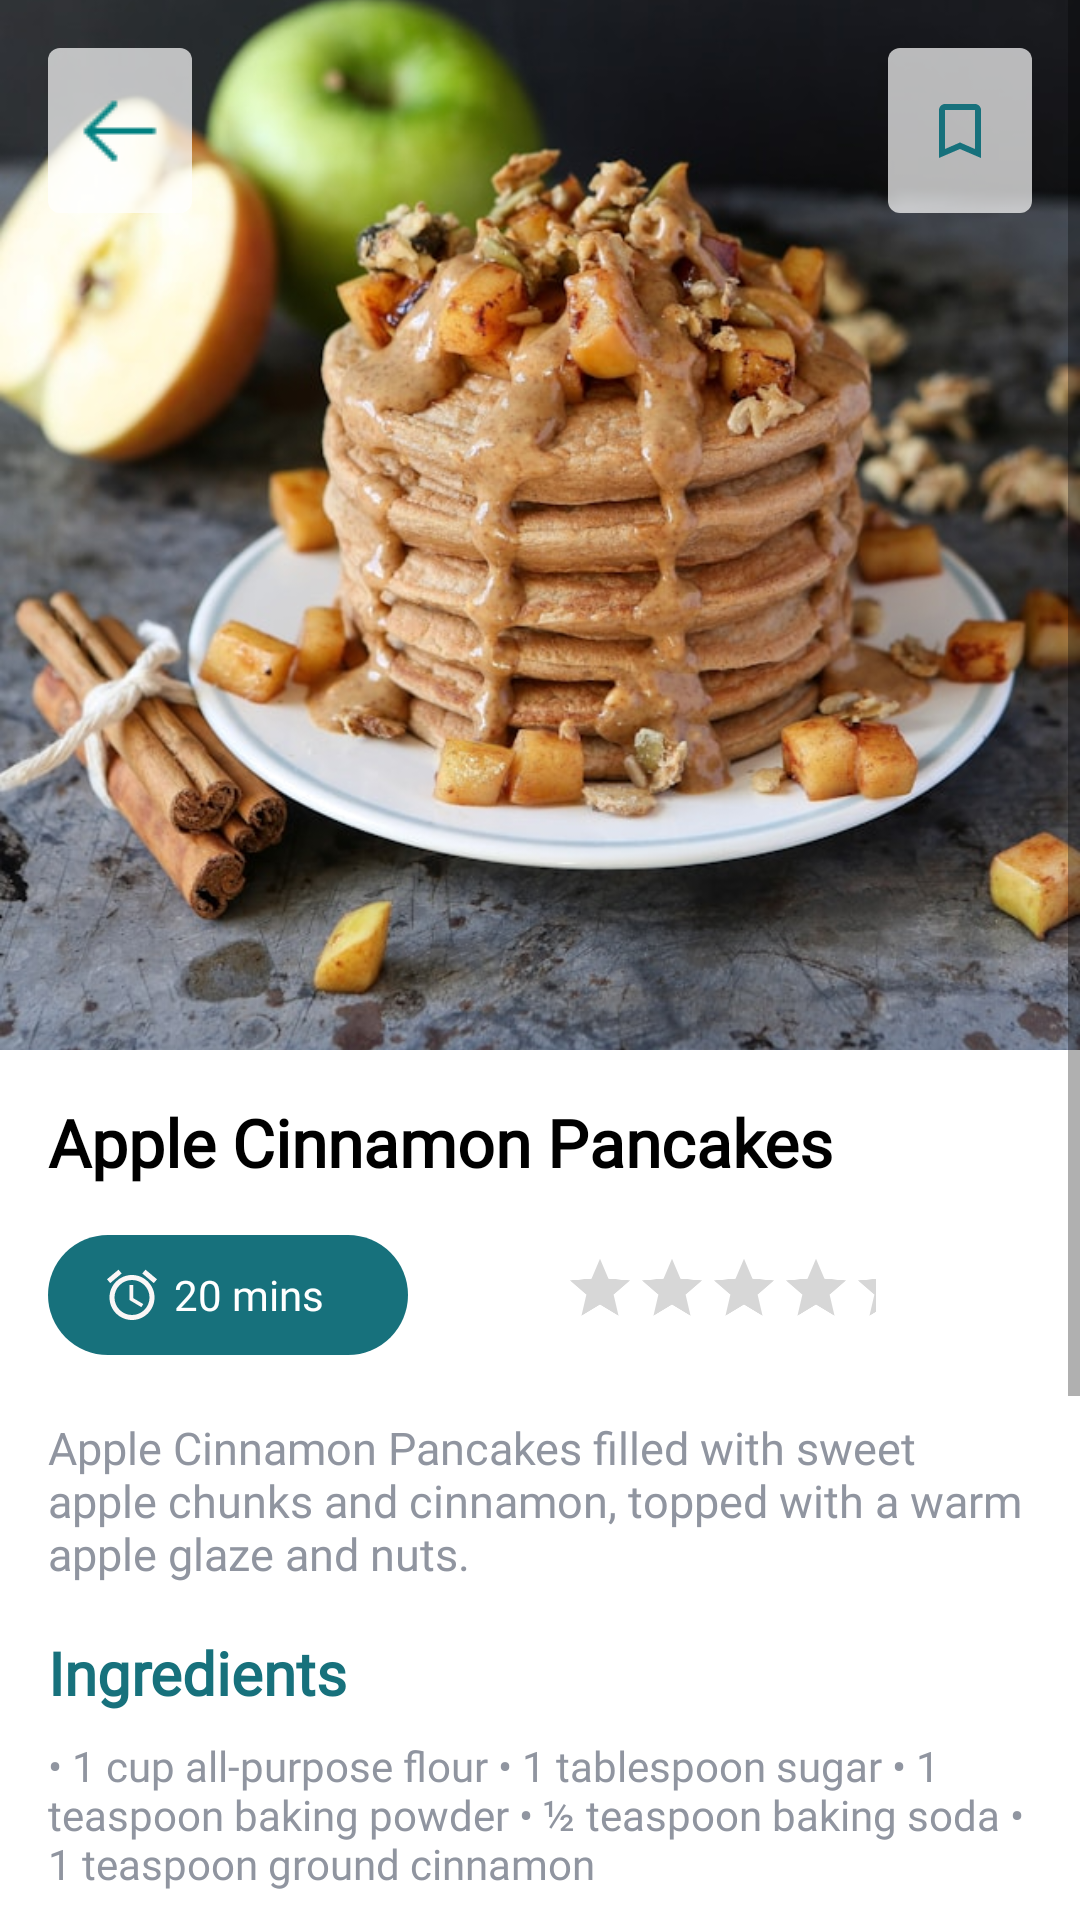

Point at icon controls on the screen. Image size 1080 x 1920, points as [x,y].
access alarm: [132,1294]
arrowleft: [120,130]
bookmark border: [960,130]
